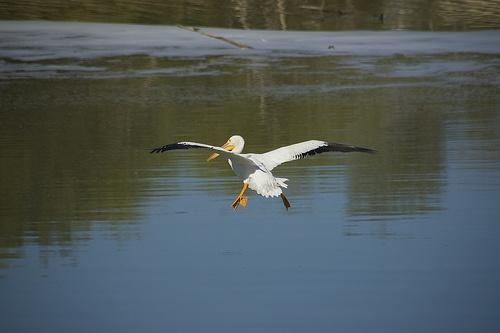bird: (152, 132, 380, 214)
